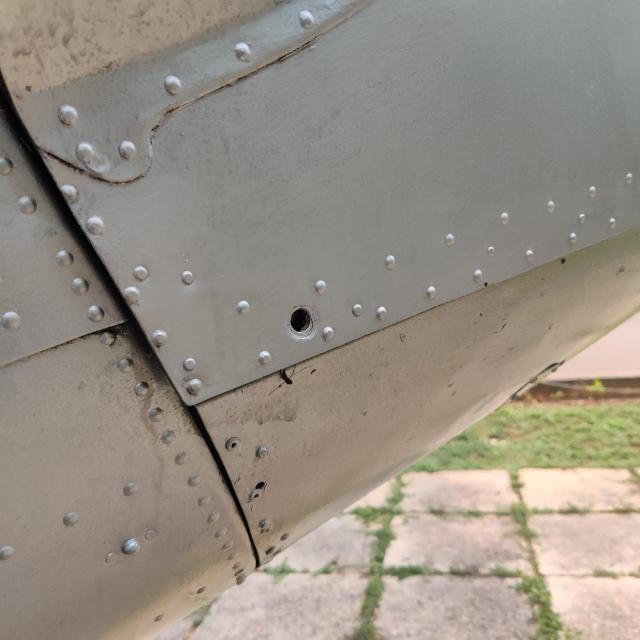missing-head: (254, 267, 358, 374)
